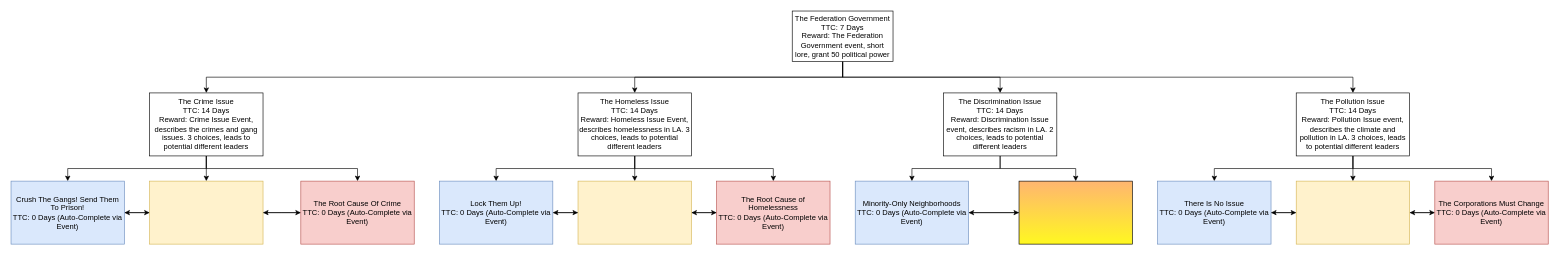
Some shapes in this 1559 by 255 pixel diagram are drawn without their labels. The shapes that lost their labels are listed below. From the top down, each one's centre as x and y in pixels, then its label:
At [206,212]: "Rehabilitate The Criminals In Jail TTC: 0 Days (Auto-Complete via Event)".
At [634,212]: "Homeless Shelters TTC: 0 Days (Auto-Complete via Event)".
At [1075,212]: "Anti-Discrimination Education TTC: 0 Days (Auto-Complete via Event)".
At [1353,212]: "The Individual Must Change TTC: 0 Days (Auto-Complete via Event)".
